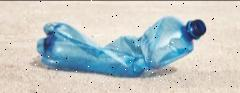plastic: (35, 15, 206, 77)
